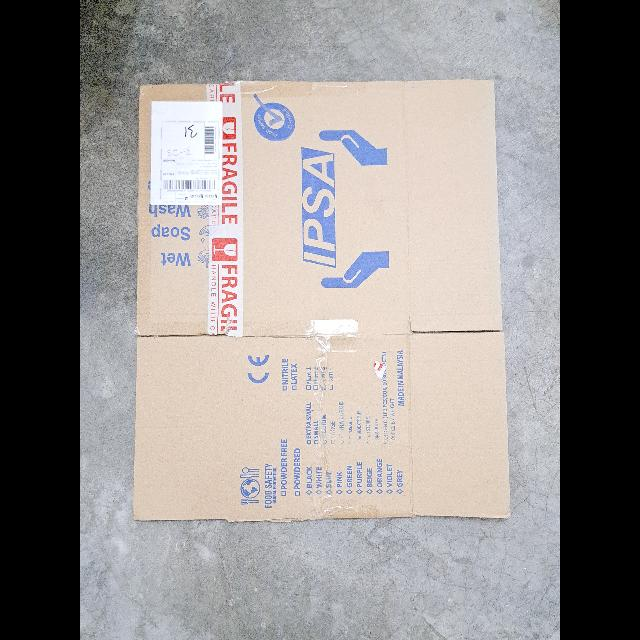papelão: (136, 82, 514, 526)
